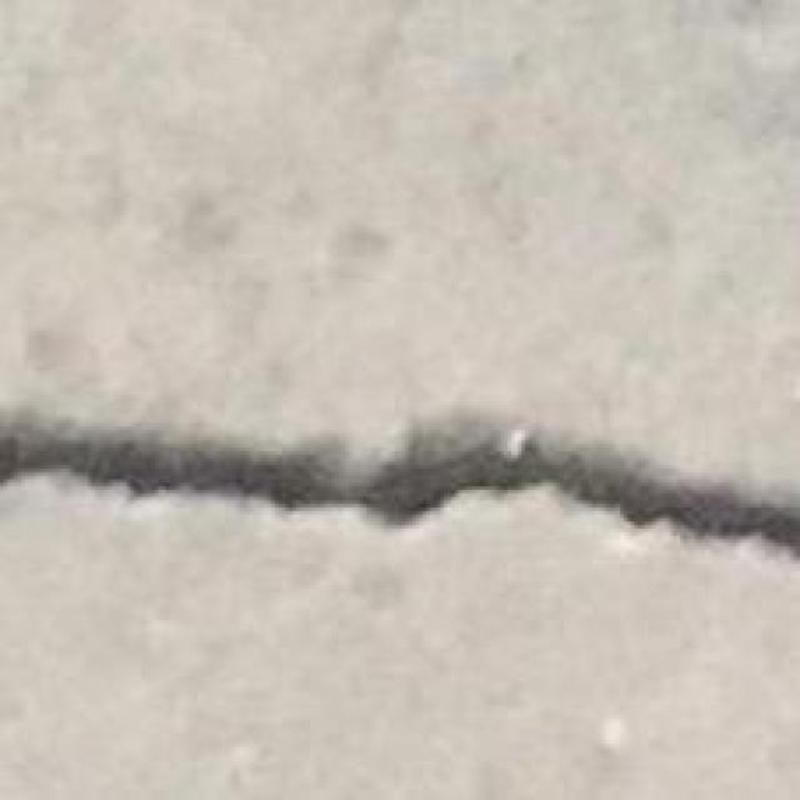pothole: (0, 419, 799, 556)
